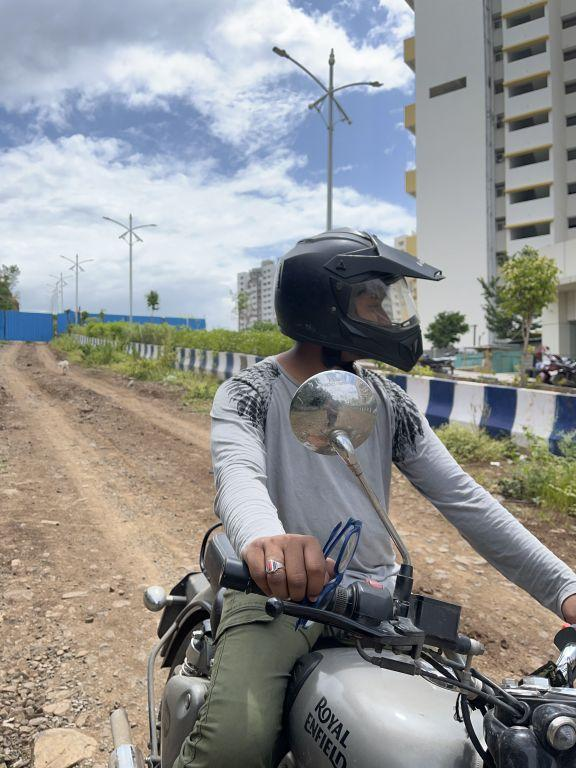helmet: (262, 220, 452, 375)
